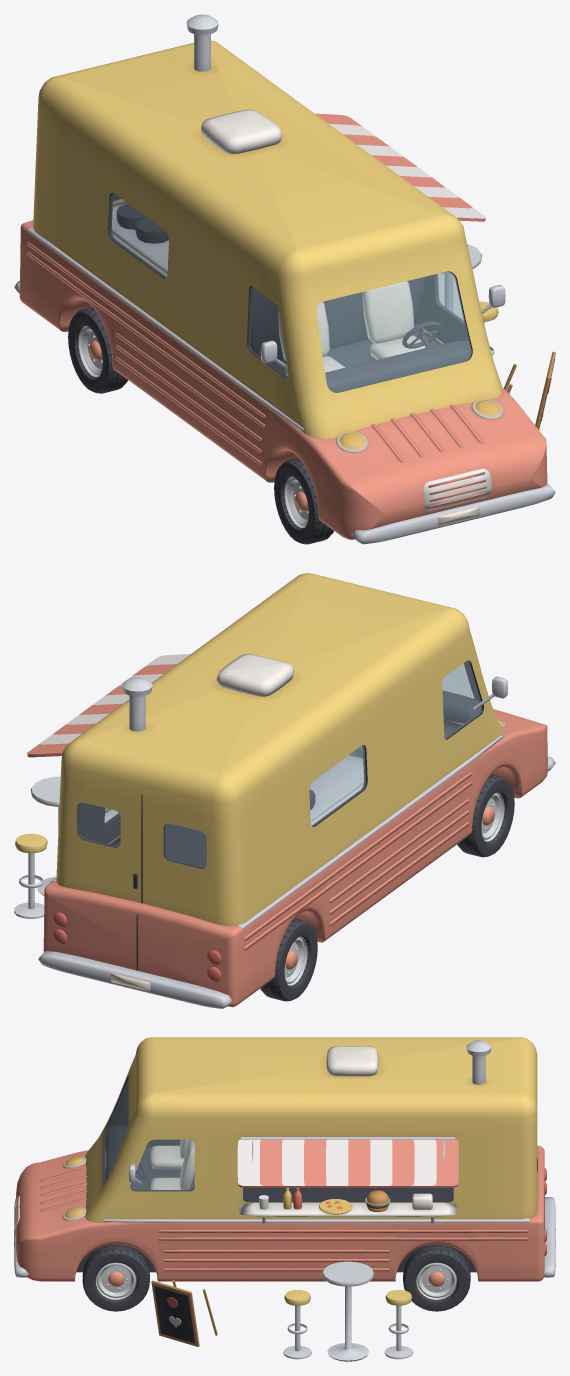
Rendered from food-truck.glb.
3 views of the same model, one above another, from view 1: azimuth 30°, elevation 25°; view 2: azimuth 150°, elevation 25°; view 3: azimuth 270°, elevation 25° (orthographic). The views are drawn at different scales.
Visible parts, largest first — view 1: food-truck_body, food-truck_windows, food-truck_hatch, food-truck_wheel_fr, food-truck_wheel_rr; view 2: food-truck_body, food-truck_windows, food-truck_wheel_rr, food-truck_wheel_fr, food-truck_hatch; view 3: food-truck_body, food-truck_hatch, food-truck_windows, food-truck_wheel_fl, food-truck_wheel_rl.
Boxes of the visible parts, x1=… form: food-truck_body: x1=14, y1=14, x2=555, y2=544; food-truck_windows: x1=110, y1=193, x2=471, y2=392; food-truck_hatch: x1=315, y1=113, x2=485, y2=221; food-truck_wheel_fr: x1=274, y1=457, x2=333, y2=544; food-truck_wheel_rr: x1=68, y1=307, x2=127, y2=393; food-truck_body: x1=14, y1=573, x2=555, y2=1008; food-truck_windows: x1=78, y1=660, x2=481, y2=867; food-truck_wheel_rr: x1=260, y1=918, x2=317, y2=1001; food-truck_wheel_fr: x1=457, y1=774, x2=514, y2=857; food-truck_hatch: x1=27, y1=654, x2=190, y2=757; food-truck_body: x1=14, y1=1037, x2=555, y2=1361; food-truck_hatch: x1=237, y1=1139, x2=458, y2=1187; food-truck_windows: x1=104, y1=1079, x2=194, y2=1190; food-truck_wheel_fl: x1=82, y1=1244, x2=149, y2=1311; food-truck_wheel_rl: x1=403, y1=1244, x2=470, y2=1311.
Bounding box in the file's own units: 3.78 × 3.26 × 6.42.
Materials: 4 (4 with a texture image).
